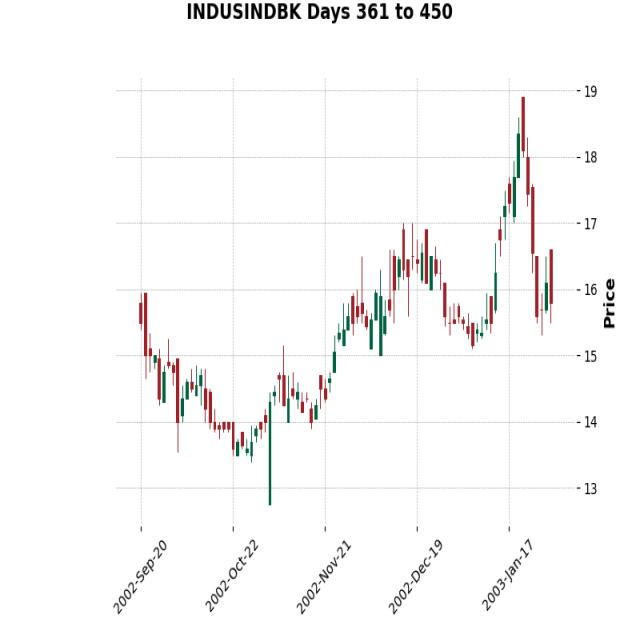Triple Bottom Reversal: (125, 348, 338, 503)
